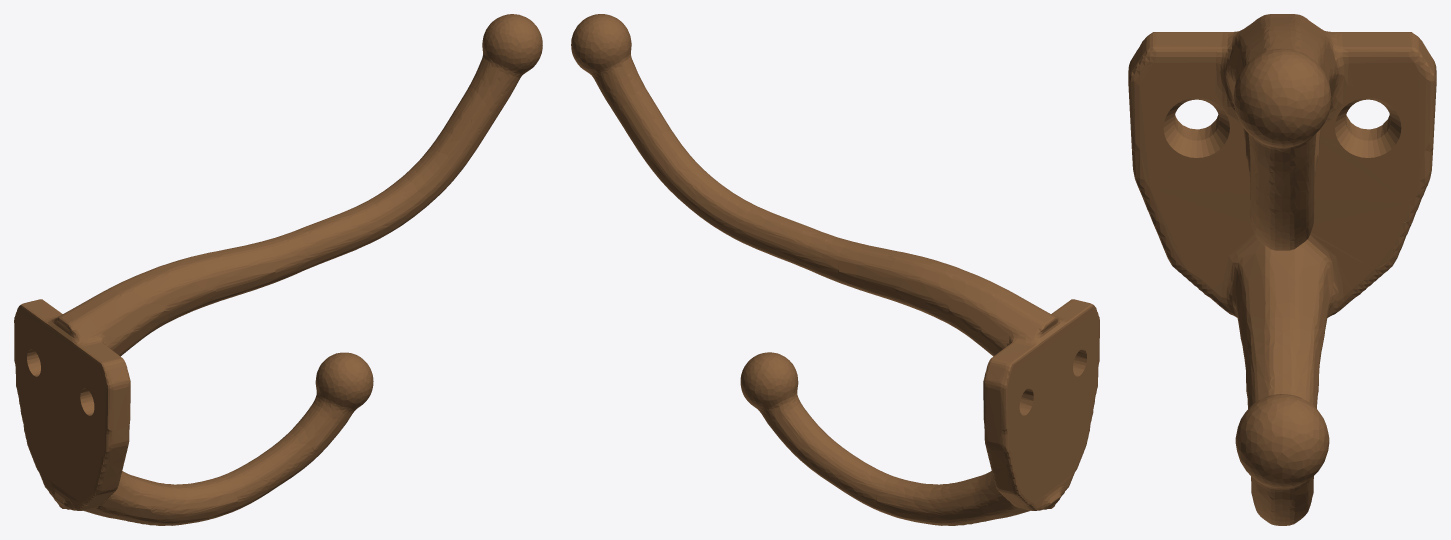
3 renders of one model, left to right at view 1: azimuth 30°, elevation 25°; view 2: azimuth 150°, elevation 25°; view 3: azimuth 270°, elevation 25°, orthographic. The views are drawn at different scales.
Parts seen in each view (by area): view 1: NEW547_Continuous_double_hook_casting; view 2: NEW547_Continuous_double_hook_casting; view 3: NEW547_Continuous_double_hook_casting.
Part boxes in pixels (x1,y1,x2,y2): NEW547_Continuous_double_hook_casting: (14,14,542,525); NEW547_Continuous_double_hook_casting: (571,14,1099,525); NEW547_Continuous_double_hook_casting: (1128,14,1436,525).
Bounding box in the file's own units: 0.0825 × 0.0698 × 0.0286.
